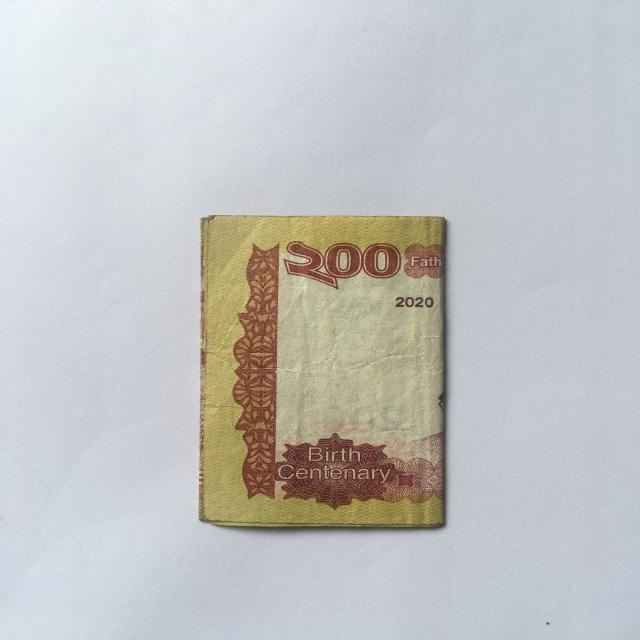Taka: (194, 208, 439, 524)
